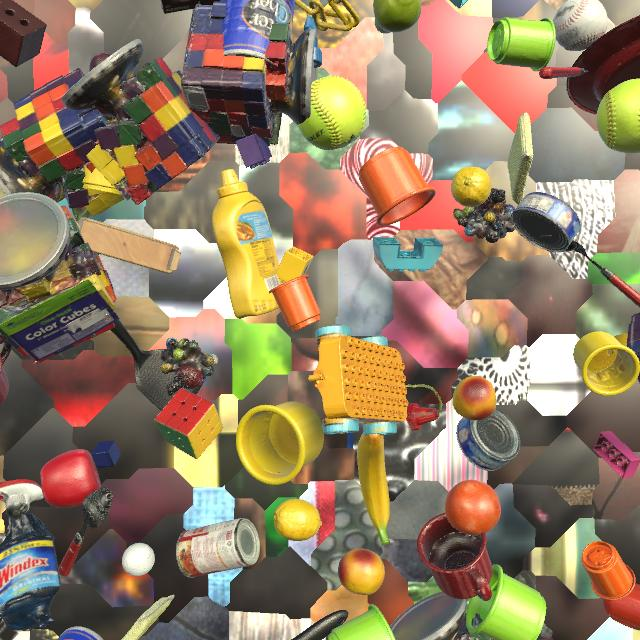ycb_002_master_chef_can: (220, 0, 295, 64), (57, 626, 104, 640)
ycb_005_tomato_soup_can: (176, 518, 260, 578)
ycb_006_mustard_bottle: (212, 169, 285, 319)
ycb_007_tuna_fish_can: (511, 192, 581, 253), (456, 408, 520, 471)
ycb_008_pudding_box: (161, 0, 220, 14)
ycb_011_banana: (357, 432, 390, 545)
ycb_013_apple: (40, 449, 101, 508)
ycb_014_lemon: (273, 499, 322, 541), (451, 167, 492, 207)
ycb_015_peach: (338, 548, 385, 595), (452, 376, 496, 421)
ycb_016_pear: (373, 0, 422, 34)
ycb_017_orange: (445, 480, 501, 535)
ycb_018_plum: (89, 53, 113, 71)
